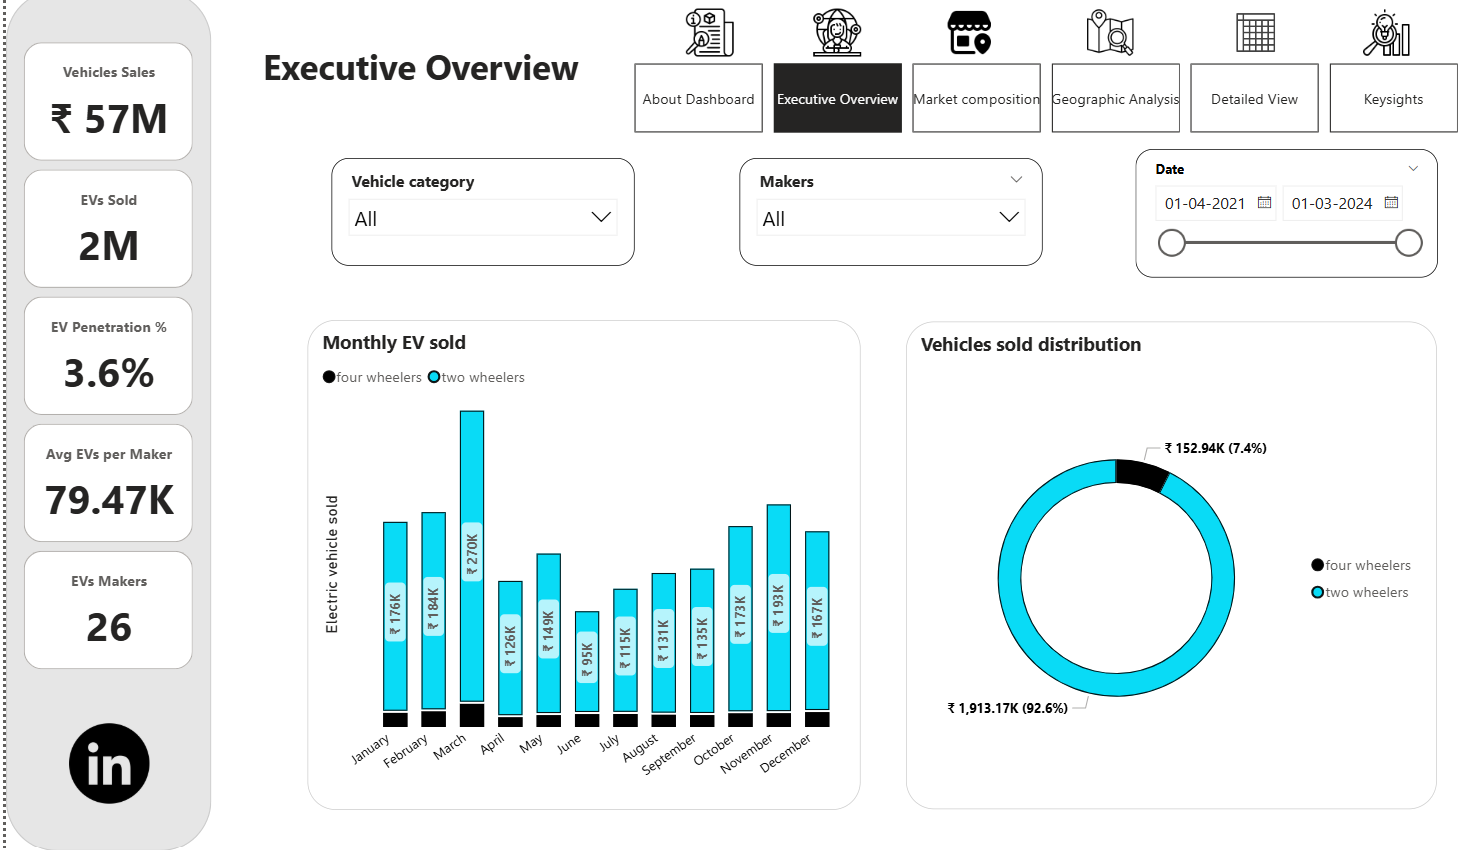

The dashboard page shown, as its layout file describes it:
{"tool":"powerbi","page":{"name":"Executive Overview","canvas":[1362,800],"ordinal":1},"visuals":[{"type":"textbox","box":[215.1,43.4,337.7,67.9],"z":0},{"type":"slicer","fields":{"Values":["dim_date.date"]},"box":[1048,147.4,280.8,119.4],"z":1000},{"type":"slicer","fields":{"Values":["electric_vehicle_sales_by_makers.vehicle_category"]},"box":[301.9,156.6,281.1,100],"z":2000},{"type":"lineStackedColumnComboChart","title":"Monthly EV sold","fields":{"Series":["electric_vehicle_sales_by_state.vehicle_category"],"Category":["dim_date.date.Variation.Date Hierarchy.Month"],"Y":["electric_vehicle_sales_by_state.Electric vehicle sold"]},"box":[279.2,305.7,513.2,454.7],"z":3000},{"type":"slicer","fields":{"Values":["electric_vehicle_sales_by_makers.Maker"]},"box":[681.1,156.6,281.1,100],"z":4000},{"type":"donutChart","title":"Vehicles sold distribution","fields":{"Series":["electric_vehicle_sales_by_state.Vehicle_category"],"Y":["electric_vehicle_sales_by_state.Electric vehicle sold"]},"box":[835.8,307.5,492.5,452.8],"z":5000},{"type":"shape","box":[0,0,190.6,800],"z":6000},{"type":"image","box":[737.7,11.3,67.9,56.6],"z":7000},{"type":"image","box":[860.4,11.3,67.9,56.6],"z":8000},{"type":"image","box":[990.6,11.3,67.9,56.6],"z":9000},{"type":"image","box":[1126.4,11.3,67.9,56.6],"z":10000},{"type":"image","box":[618.9,11.3,67.9,56.6],"z":11000},{"type":"cardVisual","fields":{"Data":["electric_vehicle_sales_by_state.Vehicles Sold","Sum(electric_vehicle_sales_by_state.electric_vehicles_sold)","electric_vehicle_sales_by_state.EV Penetration %","electric_vehicle_sales_by_makers.Average EVs per Maker","electric_vehicle_sales_by_makers.Distinct Makers"]},"box":[11.3,43.4,167.9,594.3],"z":12000},{"type":"pageNavigator","box":[583,67.9,767.9,64.2],"z":13000},{"type":"image","box":[28.3,675.5,135.8,84.9],"z":14000},{"type":"image","box":[1247.2,11.3,67.9,56.6],"z":15000}]}

Visuals, with their boxes in screenshot pixels (x1, y1, x2, y2), scaled from the page's 1362x800 canvas onto the 1473x850 screenshot:
textbox: locate(233, 46, 598, 118)
slicer - dim_date.date: locate(1133, 157, 1437, 283)
slicer - electric_vehicle_sales_by_makers.vehicle_category: locate(327, 166, 631, 273)
"Monthly EV sold" lineStackedColumnComboChart: locate(302, 325, 857, 808)
slicer - electric_vehicle_sales_by_makers.Maker: locate(737, 166, 1041, 273)
"Vehicles sold distribution" donutChart: locate(904, 327, 1437, 808)
shape: locate(0, 0, 206, 849)
image: locate(798, 12, 871, 72)
image: locate(931, 12, 1004, 72)
image: locate(1071, 12, 1145, 72)
image: locate(1218, 12, 1292, 72)
image: locate(669, 12, 743, 72)
cardVisual - electric_vehicle_sales_by_state.Vehicles Sold x Sum(electric_vehicle_sales_by_state.electric_vehicles_sold): locate(12, 46, 194, 678)
pageNavigator: locate(631, 72, 1461, 140)
image: locate(31, 718, 177, 808)
image: locate(1349, 12, 1422, 72)
